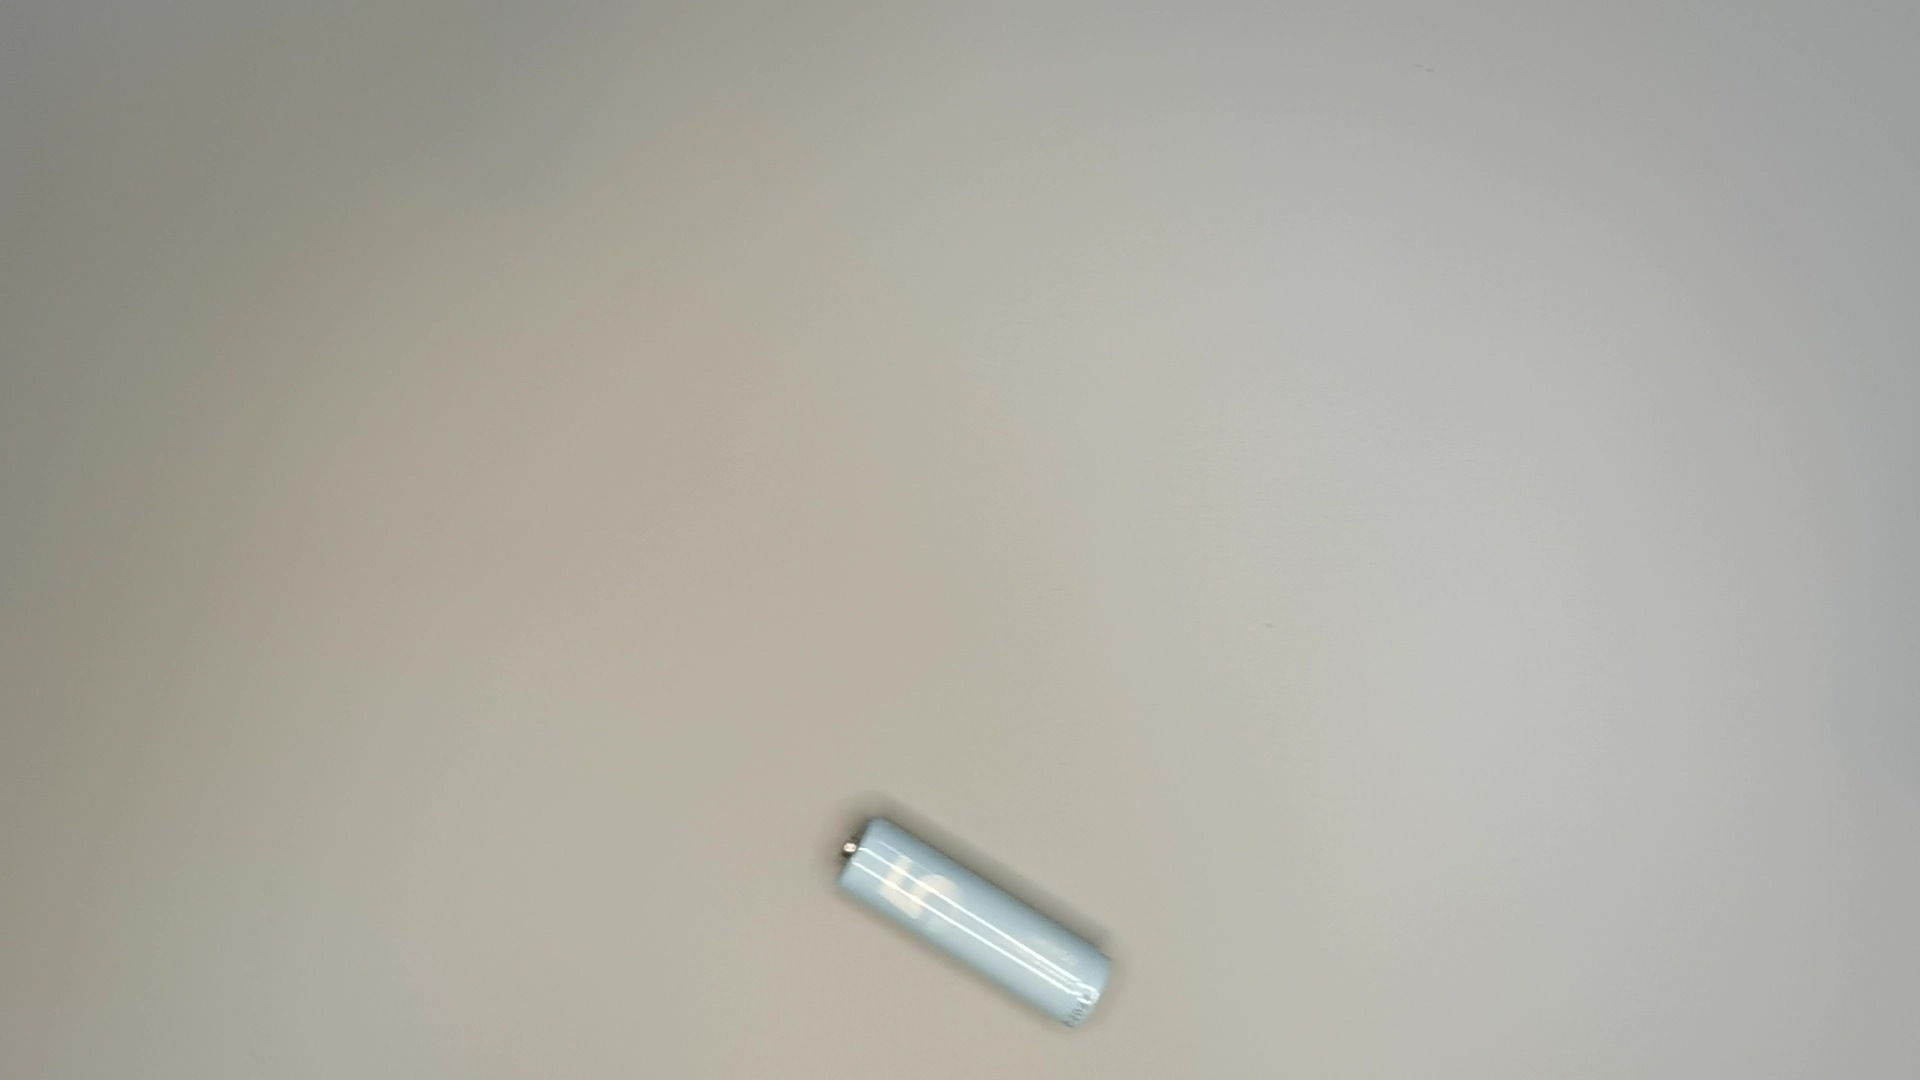battery: (836, 811, 1131, 1043)
